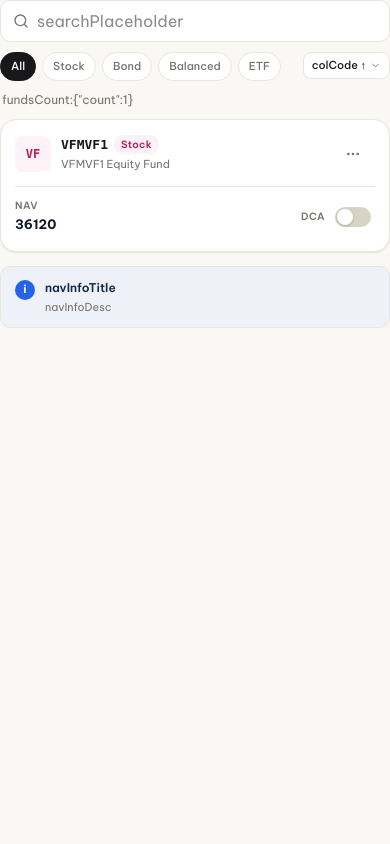
MobileFundLibraryView — delete of an in-use fund is hard-blocked with a clear message (#1) › shows the in-use message and does NOT reload when the API returns 409
Click the button named "fundActions": (353, 154) [331,132,375,176]
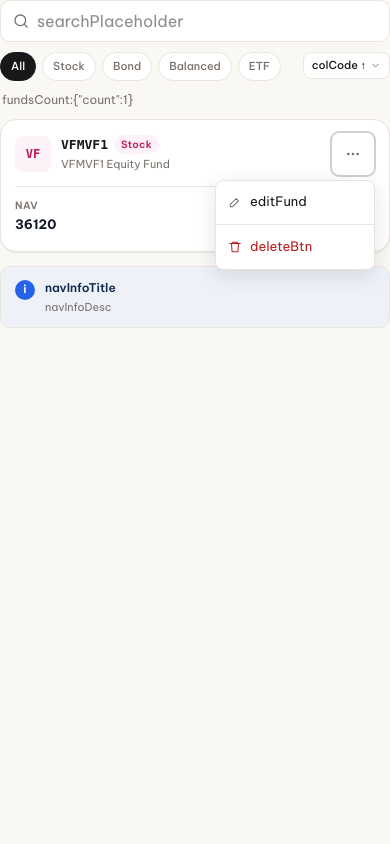
Click the menu item "deleteBtn": (295, 246) [216,224,374,268]
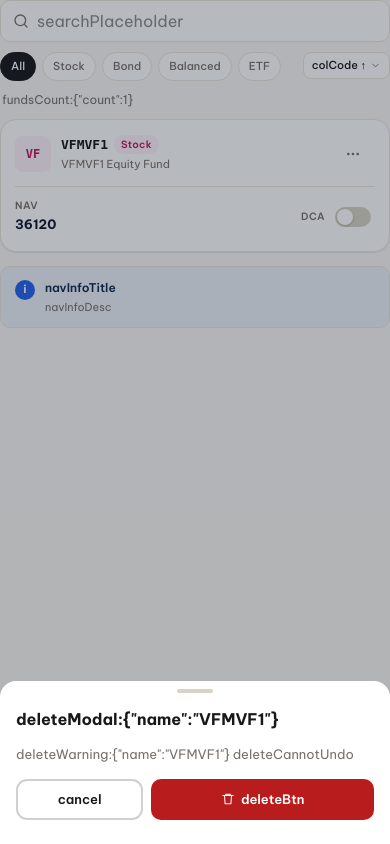
Click the button "deleteBtn": (263, 799) [151,778,374,820]
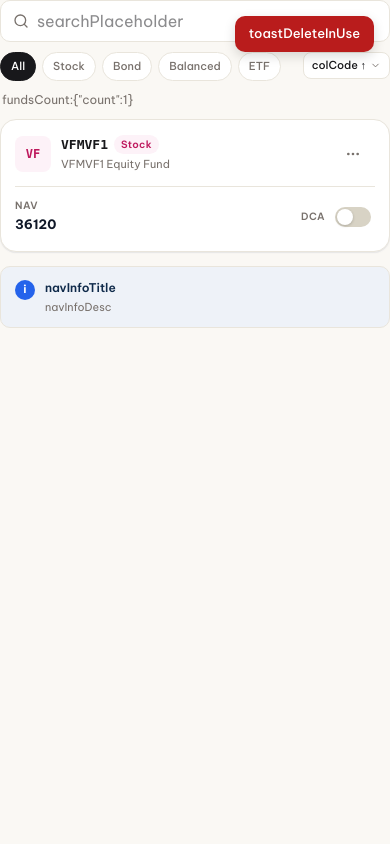
Expected: the text "toastDeleteInUse" is shown, [235,16,374,52]
